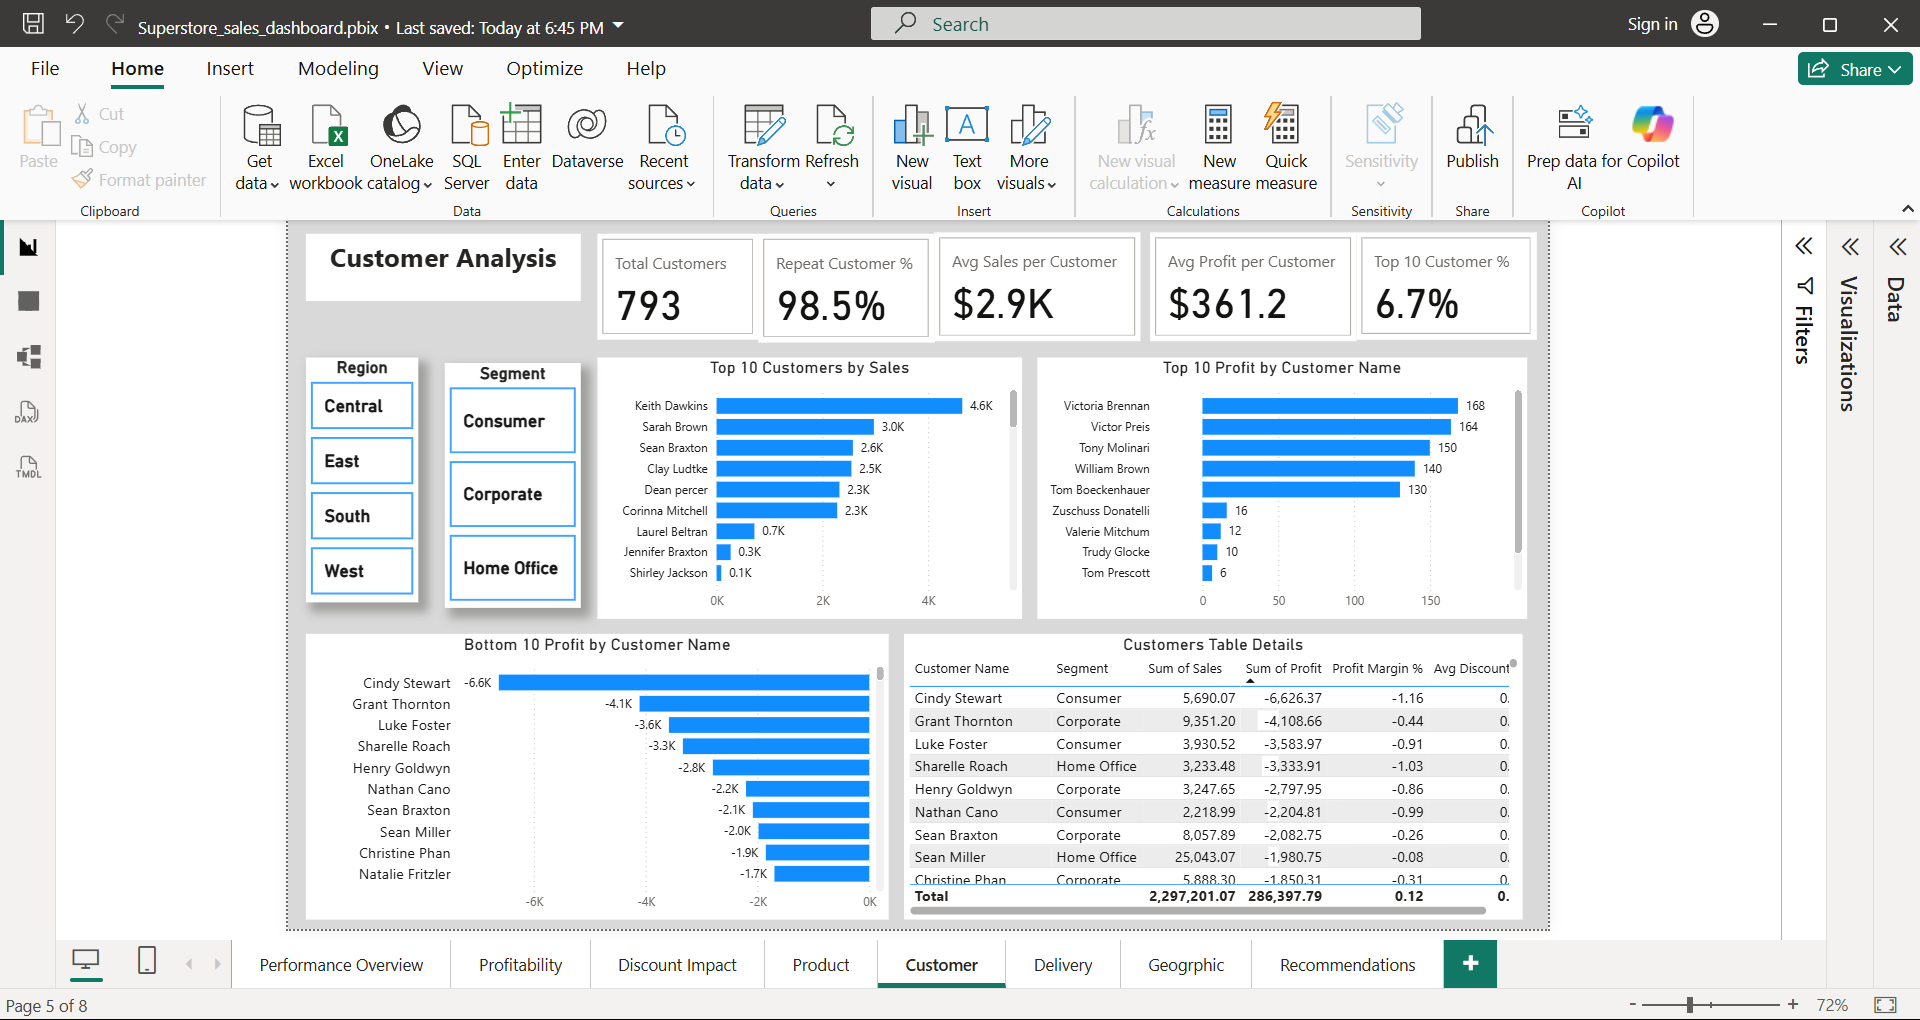

What the dashboard file says about the page in this screenshot:
{"tool":"powerbi","page":{"name":"Customer","canvas":[1280,720],"ordinal":4},"visuals":[{"type":"cardVisual","fields":{"Data":["superstore.Total Customers"]},"box":[314.2,14,163.4,107.5],"z":0},{"type":"cardVisual","fields":{"Data":["superstore.Avg Sales per Customer"]},"box":[656.4,12.6,209.5,110.3],"z":1000},{"type":"cardVisual","fields":{"Data":["superstore.Avg Profit per Customer"]},"box":[875.7,12.6,209.5,110.3],"z":2000},{"type":"clusteredBarChart","title":"Top 10 Customers  by Sales","fields":{"Y":["superstore.Total Sales"],"Category":["superstore.Customer Name"]},"box":[314.2,139.7,431.6,265.4],"z":3000},{"type":"clusteredBarChart","title":"Top 10 Profit by Customer Name","fields":{"Category":["superstore.Customer Name"],"Y":["superstore.Total Profit"]},"box":[761.2,139.7,497.2,265.4],"z":4000},{"type":"clusteredBarChart","title":"Bottom 10 Profit by Customer Name","fields":{"Category":["superstore.Customer Name"],"Y":["Sum(superstore.Profit)"]},"box":[18.2,420.4,592.2,290.5],"z":5000},{"type":"cardVisual","fields":{"Data":["superstore.Top 10 Customer %"]},"box":[1085.2,12.6,183,108.9],"z":6000},{"type":"advancedSlicerVisual","fields":{"Values":["superstore.Segment"]},"box":[159.2,145.2,138.3,248.6],"z":7000},{"type":"cardVisual","fields":{"Data":["superstore.Repeat %"]},"box":[477.6,14,178.8,110.3],"z":8000},{"type":"tableEx","title":"Customers Table Details","fields":{"Values":["superstore.Customer Name","superstore.Segment","Sum(superstore.Sales)","Sum(superstore.Profit)","superstore.Profit Margin %","superstore.Avg Discount %"]},"box":[625.7,420.4,628.5,290.5],"z":9000},{"type":"advancedSlicerVisual","fields":{"Values":["superstore.Region"]},"box":[18.2,139.7,114.5,248.6],"z":10000},{"type":"textbox","box":[18.2,14,279.3,68.4],"z":11000}]}

Visuals, with their boxes on the page's 1280x720 design canvas (x1, y1, x2, y2). These are canvas units, not pixel positions in the 1920x1020 screenshot, which may show the page scaled, cropped or inside an application window:
cardVisual - superstore.Total Customers: {"x1": 314, "y1": 14, "x2": 478, "y2": 122}
cardVisual - superstore.Avg Sales per Customer: {"x1": 656, "y1": 13, "x2": 866, "y2": 123}
cardVisual - superstore.Avg Profit per Customer: {"x1": 876, "y1": 13, "x2": 1085, "y2": 123}
"Top 10 Customers  by Sales" clusteredBarChart: {"x1": 314, "y1": 140, "x2": 746, "y2": 405}
"Top 10 Profit by Customer Name" clusteredBarChart: {"x1": 761, "y1": 140, "x2": 1258, "y2": 405}
"Bottom 10 Profit by Customer Name" clusteredBarChart: {"x1": 18, "y1": 420, "x2": 610, "y2": 711}
cardVisual - superstore.Top 10 Customer %: {"x1": 1085, "y1": 13, "x2": 1268, "y2": 122}
advancedSlicerVisual - superstore.Segment: {"x1": 159, "y1": 145, "x2": 298, "y2": 394}
cardVisual - superstore.Repeat %: {"x1": 478, "y1": 14, "x2": 656, "y2": 124}
"Customers Table Details" tableEx: {"x1": 626, "y1": 420, "x2": 1254, "y2": 711}
advancedSlicerVisual - superstore.Region: {"x1": 18, "y1": 140, "x2": 133, "y2": 388}
textbox: {"x1": 18, "y1": 14, "x2": 298, "y2": 82}
